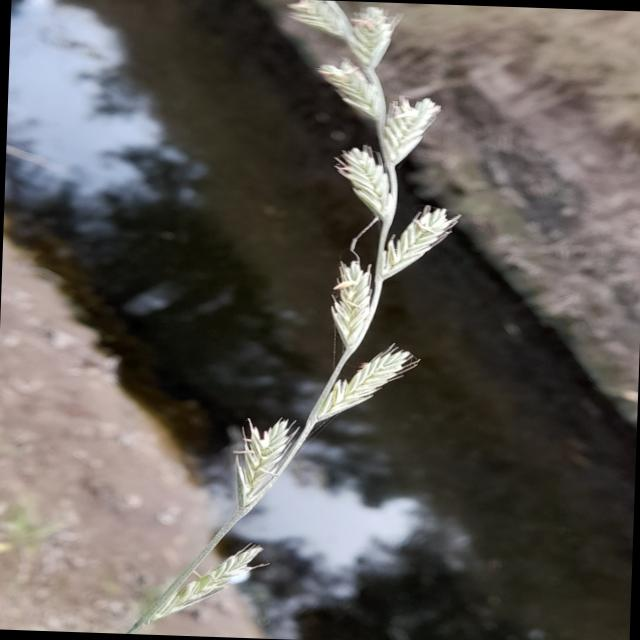Lolium: (127, 0, 473, 640)
